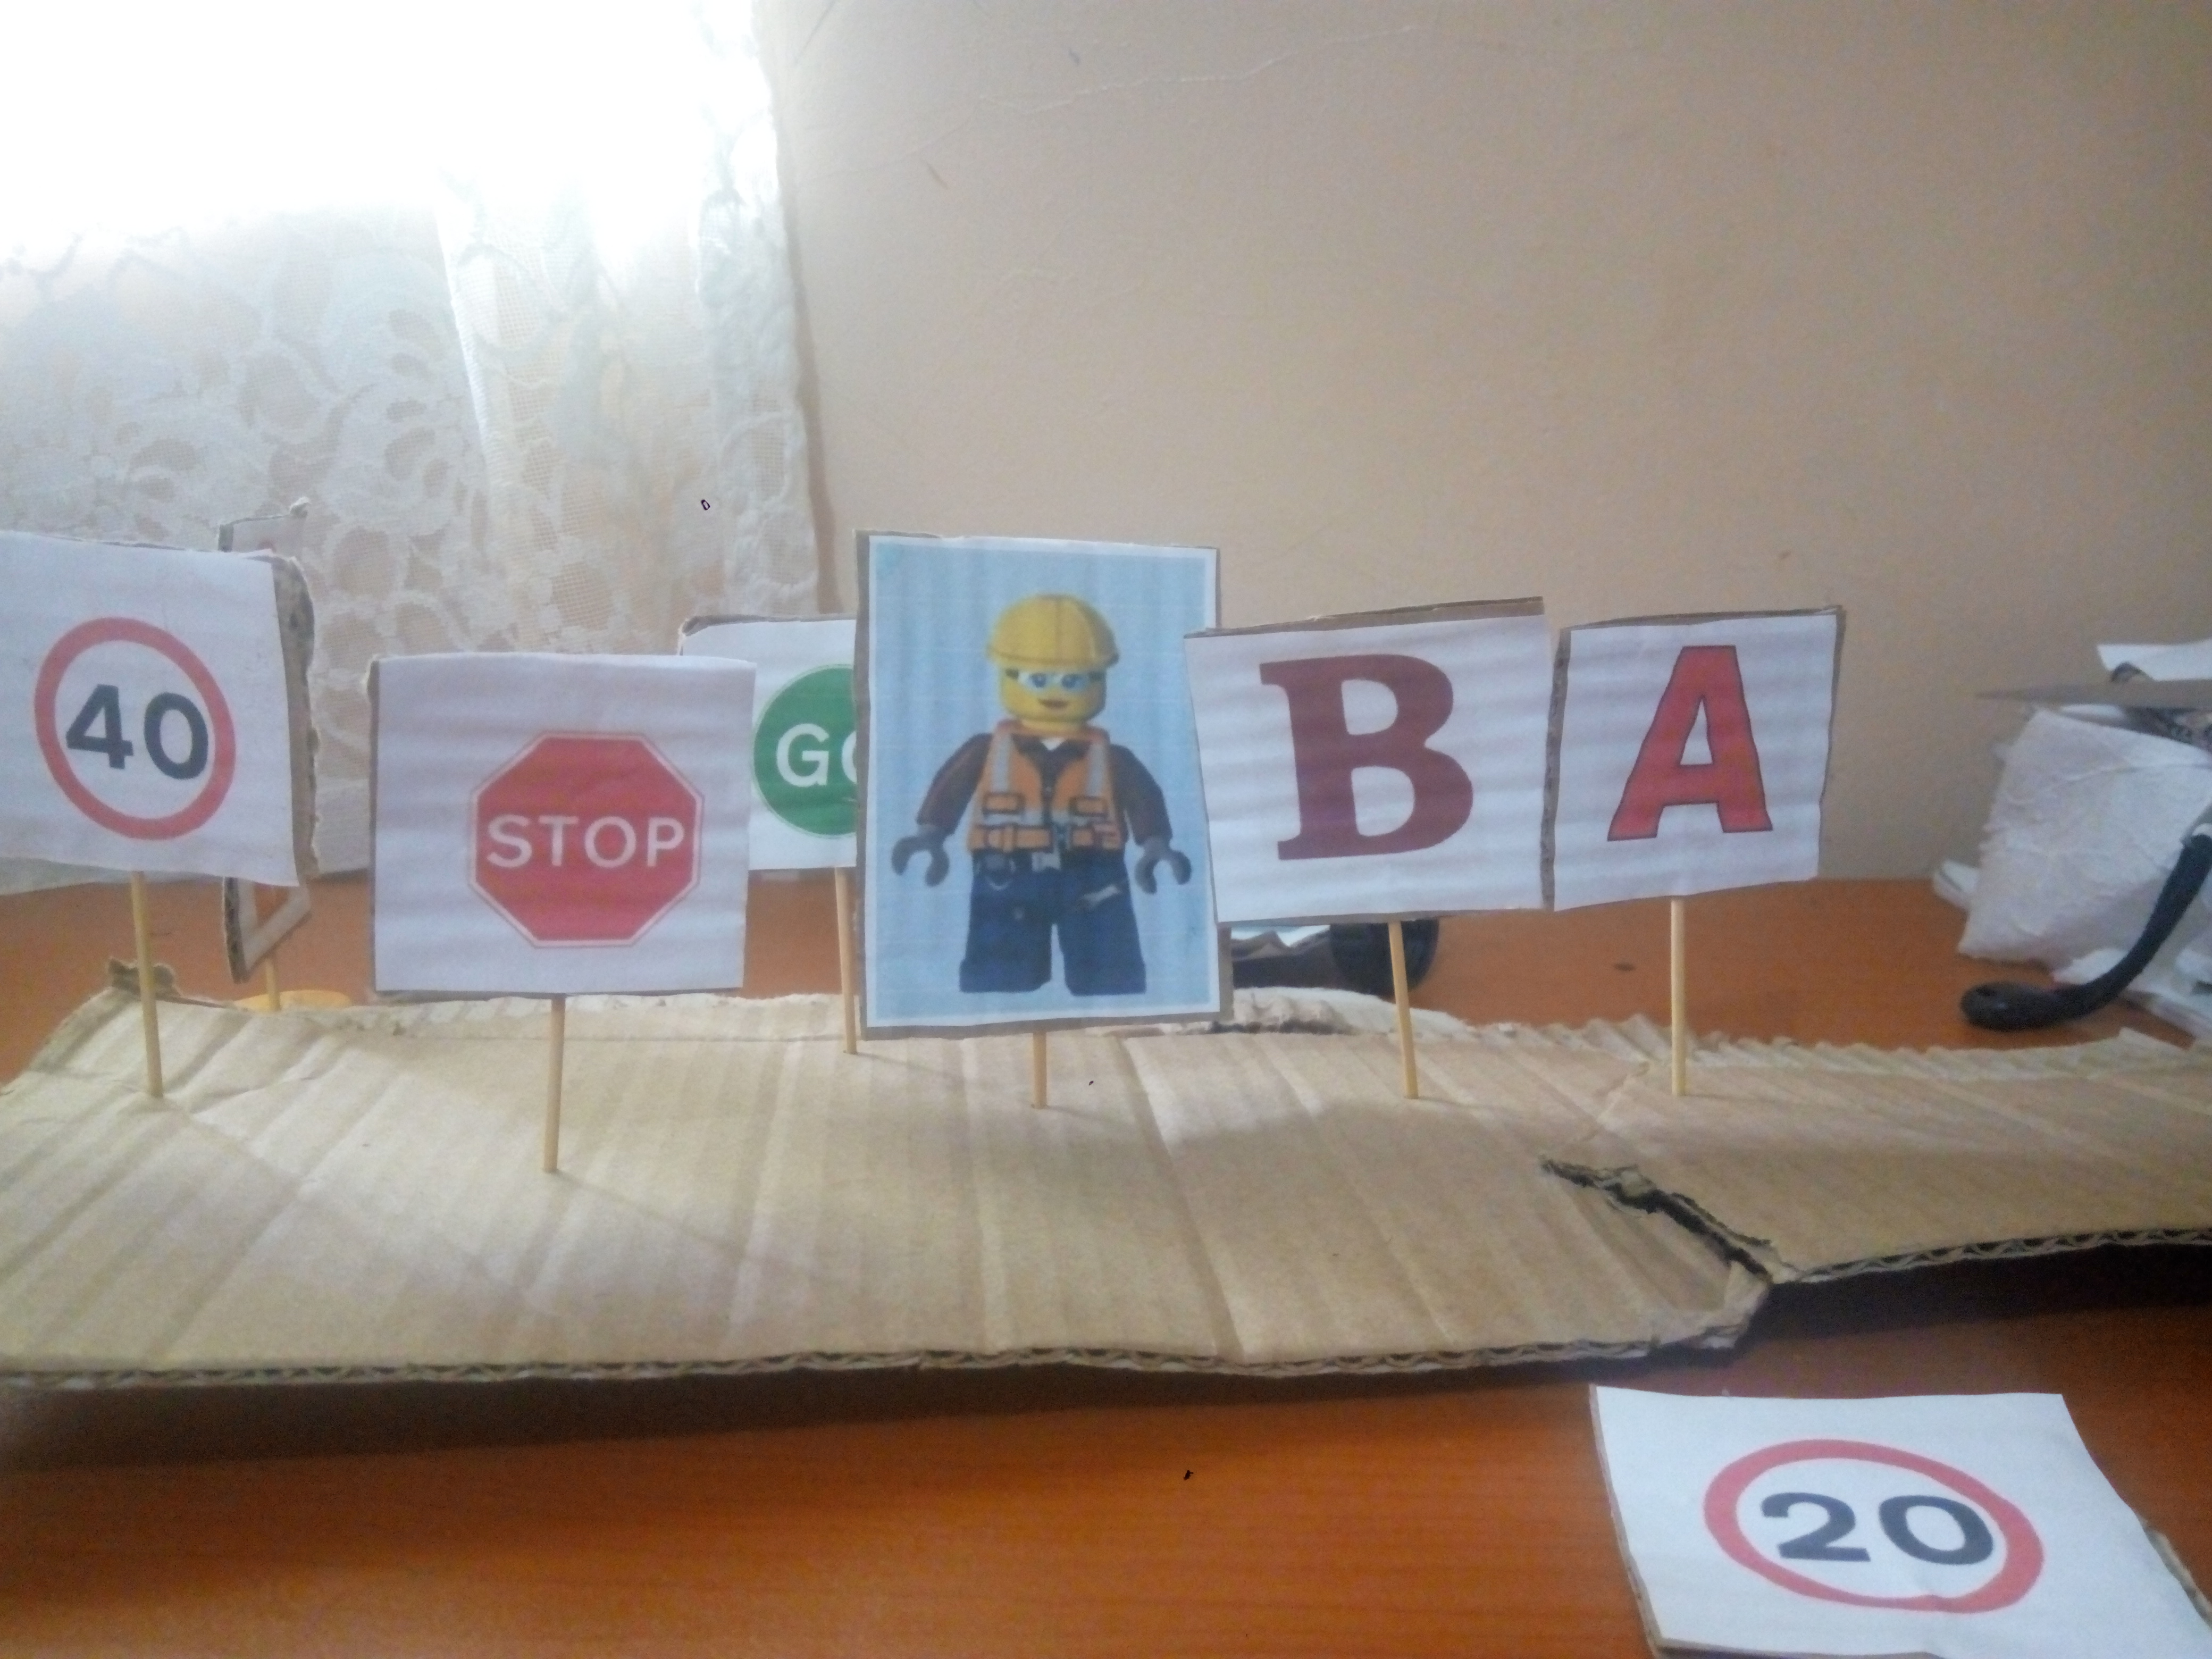20 kph: (1690, 1421, 2058, 1606)
40 kph: (12, 589, 273, 862)
pedestrian: (891, 556, 1207, 996)
stop: (453, 695, 723, 974)
zone A: (1594, 619, 1797, 869)
zone B: (1243, 632, 1490, 882)
